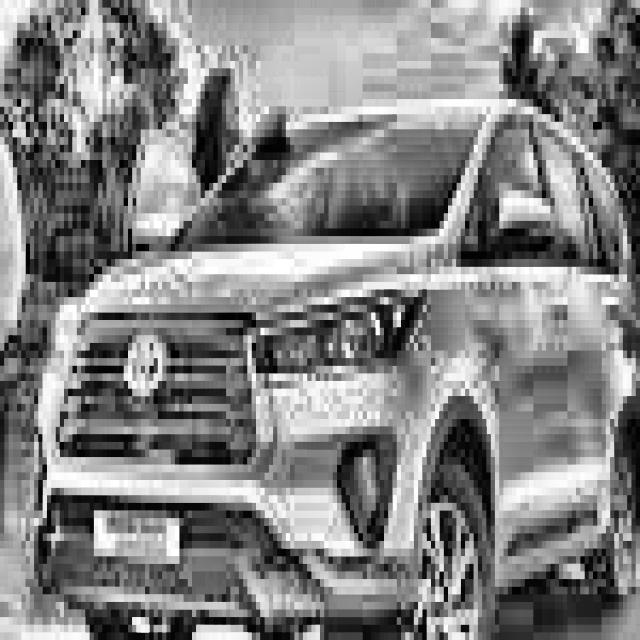light_vehicle: (30, 99, 640, 640)
